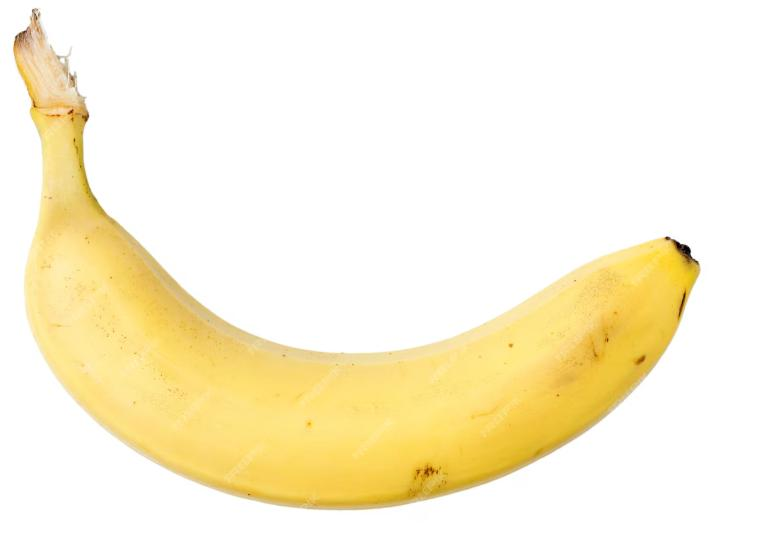banana: (13, 12, 729, 515)
